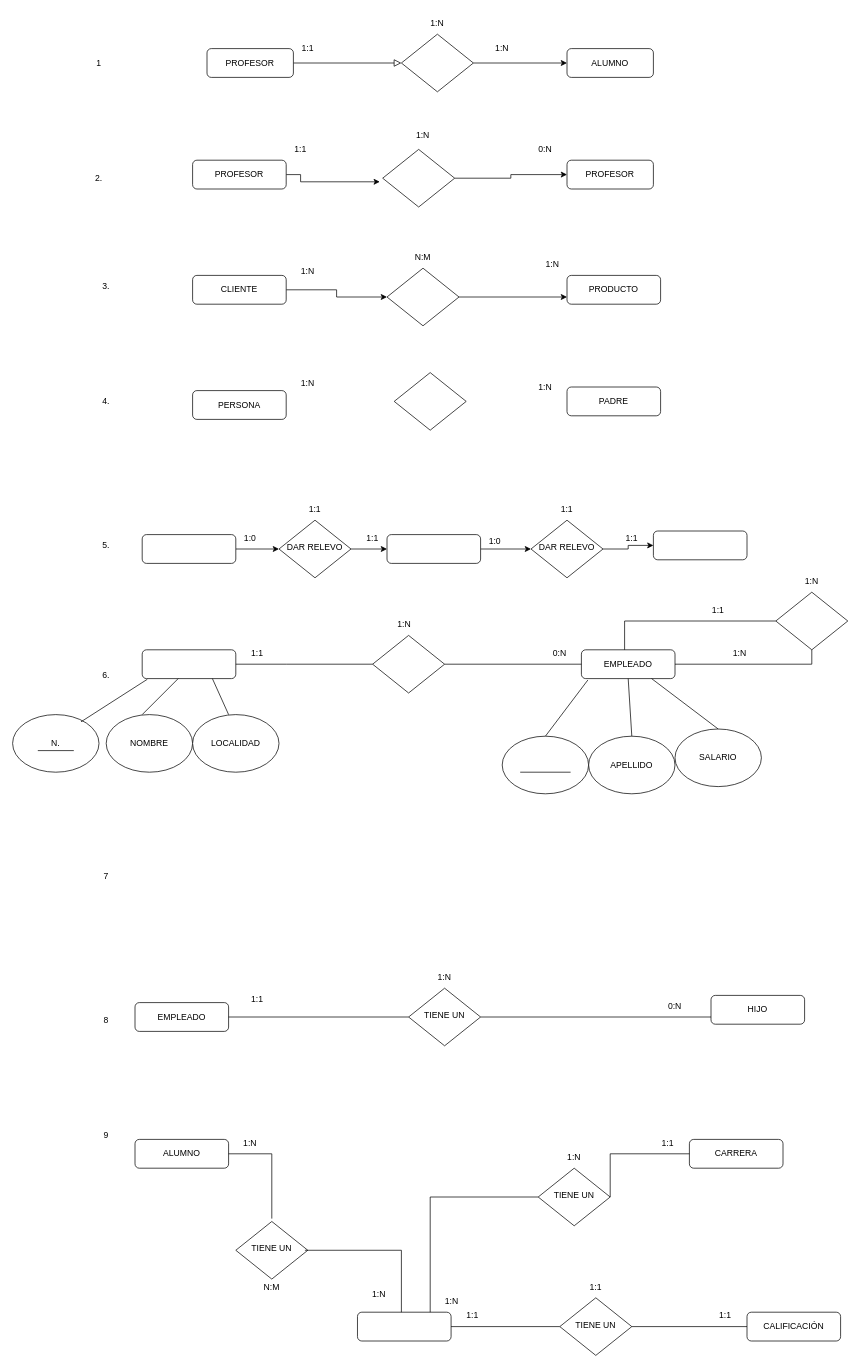
Image size: 860x1368. Some labels were removed from this diagram. Here are the shapes that lost their labels. From the top down, the box of each, then its label:
(401, 33, 473, 92): DAN CLASE
(382, 149, 455, 207): SER TUTOR
(386, 267, 459, 326): COMPRA
(393, 372, 466, 430): PUEDE SER
(141, 534, 236, 563): 1ER ATLETA
(386, 534, 481, 563): 2DO ATLETA
(653, 530, 747, 560): 3ER ATLETA
(775, 591, 848, 650): JEFE
(141, 649, 236, 679): DEPARTAMENTO
(372, 635, 445, 693): ESTAN ASIGNADOS
(501, 735, 589, 794): N. EMPELADO
(357, 1311, 451, 1341): ASIGNATURA
